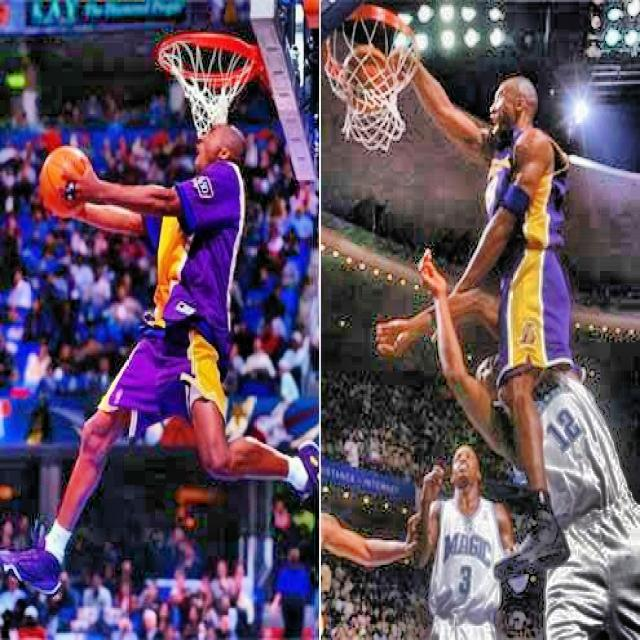rim: (324, 7, 423, 148), (157, 33, 261, 136)
